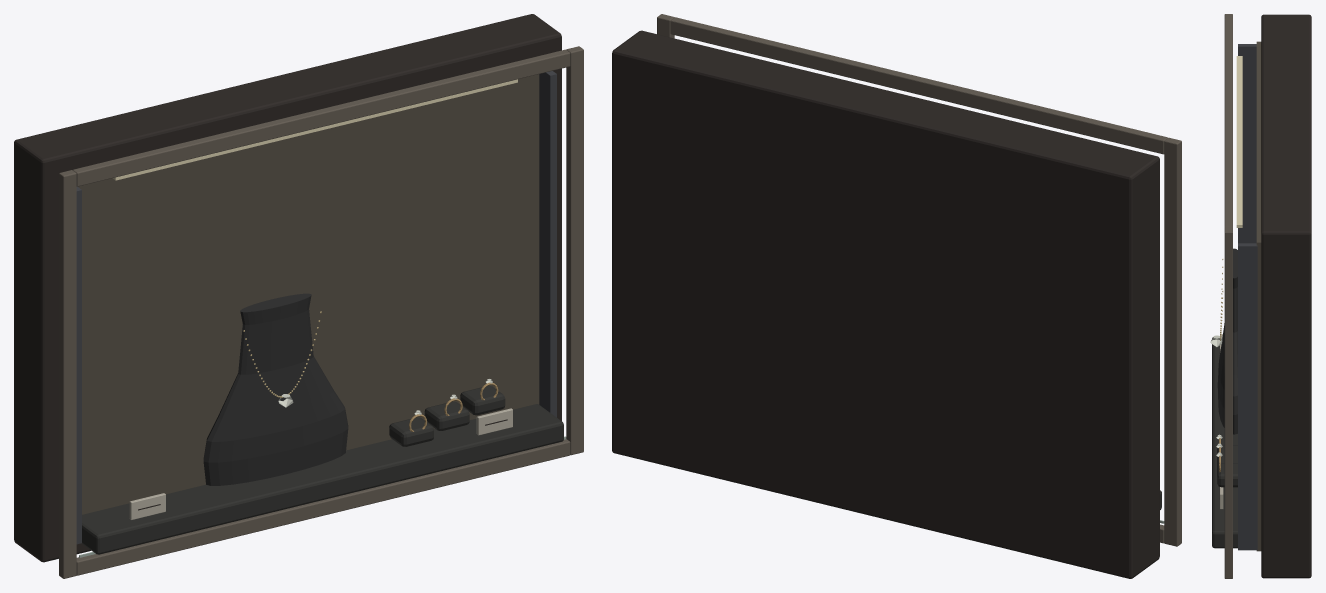
Rendered from showcase.glb.
The picture shows the model from 3 angles, left to right: view 1: azimuth 30°, elevation 25°; view 2: azimuth 150°, elevation 25°; view 3: azimuth 270°, elevation 25°; orthographic projection. The views are drawn at different scales.
Parts seen in each view (by area): view 1: JewelryShadowbox; view 2: JewelryShadowbox; view 3: JewelryShadowbox.
Boxes of the visible parts, left/top/right/bottom form: JewelryShadowbox: left=14, top=14, right=583, bottom=578; JewelryShadowbox: left=612, top=14, right=1181, bottom=578; JewelryShadowbox: left=1210, top=14, right=1311, bottom=578.
Bounding box in the file's own units: 1.23 × 0.91 × 0.241.
